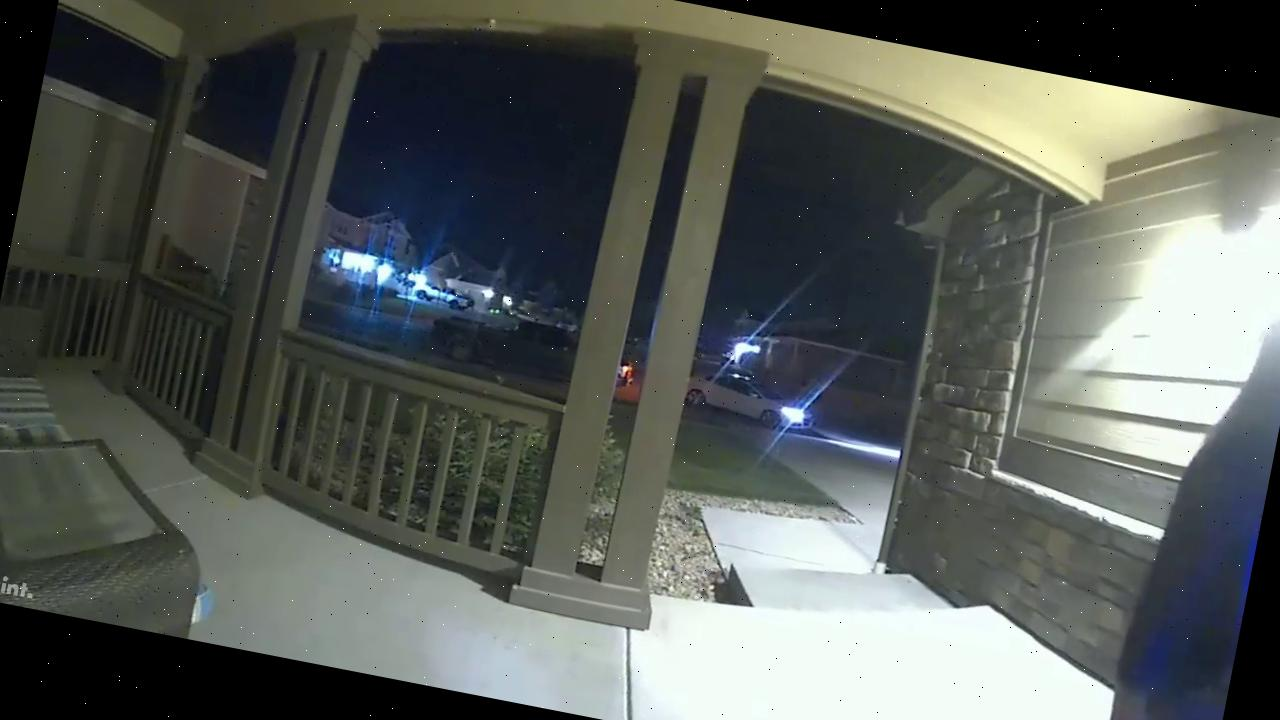suspicion: (421, 294, 574, 403), (680, 356, 841, 448), (398, 272, 476, 316)
